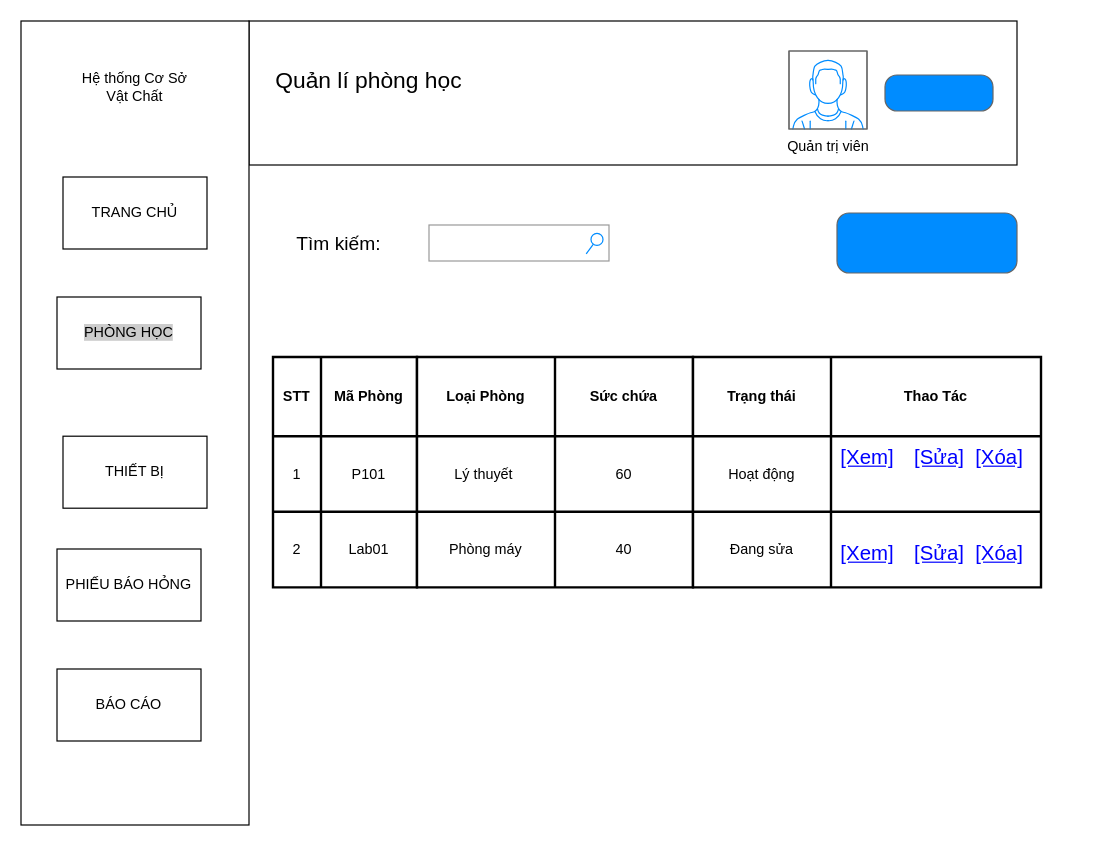
The diagram is 1110 pixels wide and 846 high, and some of its shapes have lost their labels. Each missing label, with the box of its shape:
Nhập mã phòng: (428, 224, 609, 261)
Thêm Phòng: (836, 212, 1017, 273)
Đăng xuất: (884, 74, 993, 111)
